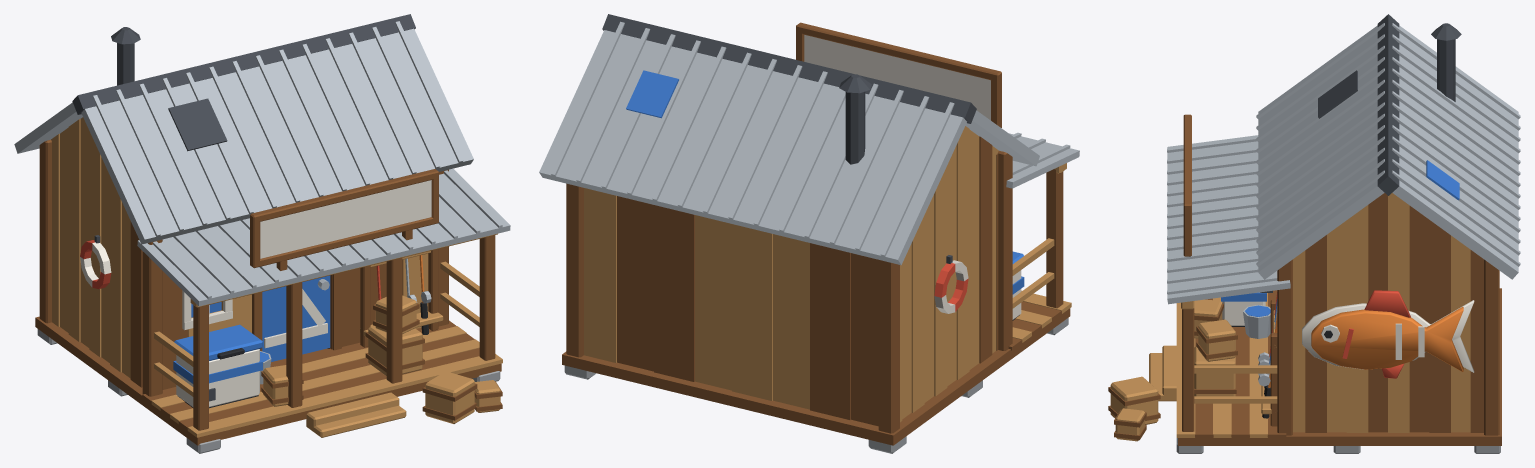
Rendered from lakeside-bait-shop.glb.
3 renders of one model, left to right at view 1: azimuth 30°, elevation 25°; view 2: azimuth 150°, elevation 25°; view 3: azimuth 270°, elevation 25°, orthographic. The views are drawn at different scales.
Visible parts, largest first — view 1: Shack_Roof, Porch, Shack_Walls, SignBoard, Crates, Door, BaitFridge, RodRack, FridgeLid, Details; view 2: Shack_Walls, Shack_Roof, Porch, SignBoard, Details; view 3: Shack_Roof, Shack_Walls, Porch, Fish_Sign, Crates, RodRack, SignBoard, BaitFridge, Details.
Part boxes in pixels (<box>): Shack_Roof: <box>14,14,473,244</box>; Porch: <box>35,168,510,453</box>; Shack_Walls: <box>39,117,448,396</box>; SignBoard: <box>250,169,438,270</box>; Crates: <box>261,295,502,423</box>; Door: <box>262,275,330,361</box>; BaitFridge: <box>173,349,262,408</box>; RodRack: <box>360,249,443,347</box>; FridgeLid: <box>174,324,262,360</box>; Details: <box>80,235,271,384</box>; Shack_Walls: <box>566,126,1012,433</box>; Shack_Roof: <box>539,14,1039,265</box>; Porch: <box>562,132,1079,453</box>; SignBoard: <box>796,22,1001,127</box>; Details: <box>934,255,968,313</box>; Shack_Roof: <box>1256,14,1520,279</box>; Shack_Walls: <box>1277,193,1499,435</box>; Porch: <box>1149,135,1501,453</box>; Fish_Sign: <box>1302,290,1474,378</box>; Crates: <box>1108,299,1237,441</box>; RodRack: <box>1258,292,1277,426</box>; SignBoard: <box>1183,114,1191,256</box>; BaitFridge: <box>1221,292,1266,326</box>; Details: <box>1243,290,1272,338</box>.
Bounding box in the file's own units: 18.6 × 16.7 × 19.96.
